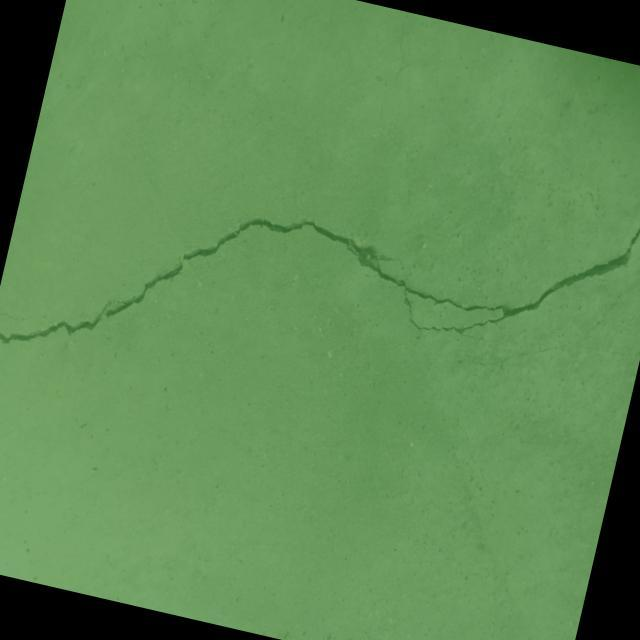crack: (0, 71, 640, 484), (507, 287, 611, 378), (0, 308, 33, 325)
